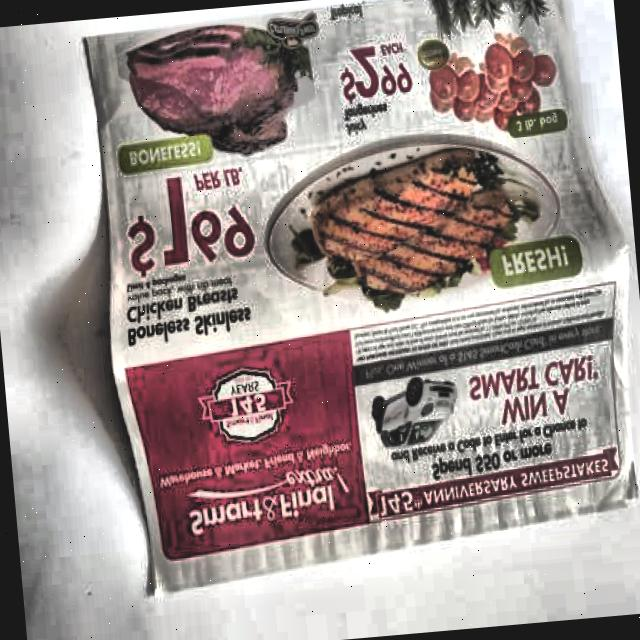paper: (97, 0, 640, 597)
